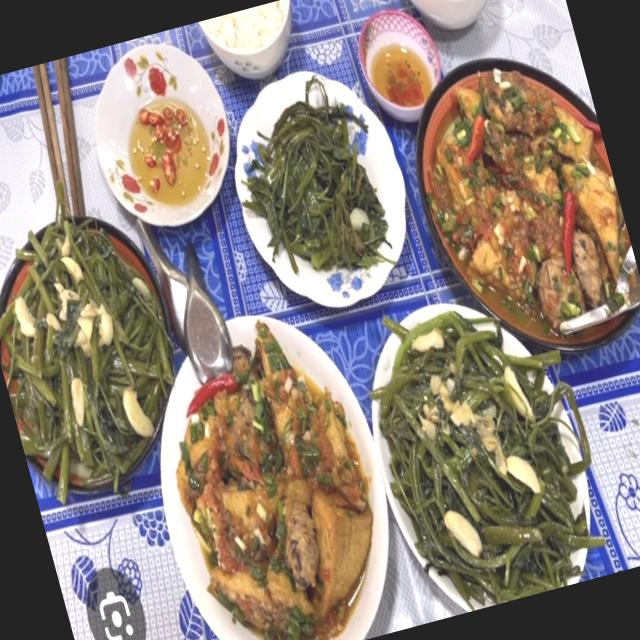dau hu: (175, 319, 373, 640), (417, 62, 630, 346)
nuoc mam: (128, 101, 207, 205), (369, 43, 432, 107)
rau muong: (370, 309, 604, 606), (0, 182, 172, 501), (242, 77, 386, 271)
